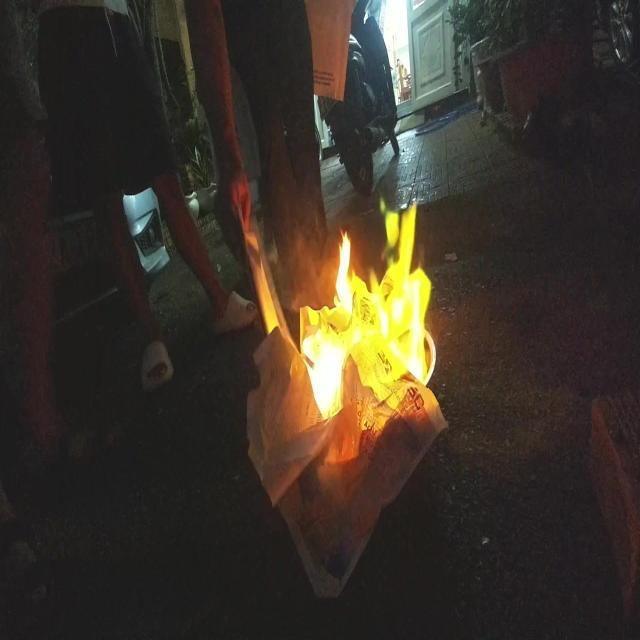Fire: (282, 190, 434, 474)
